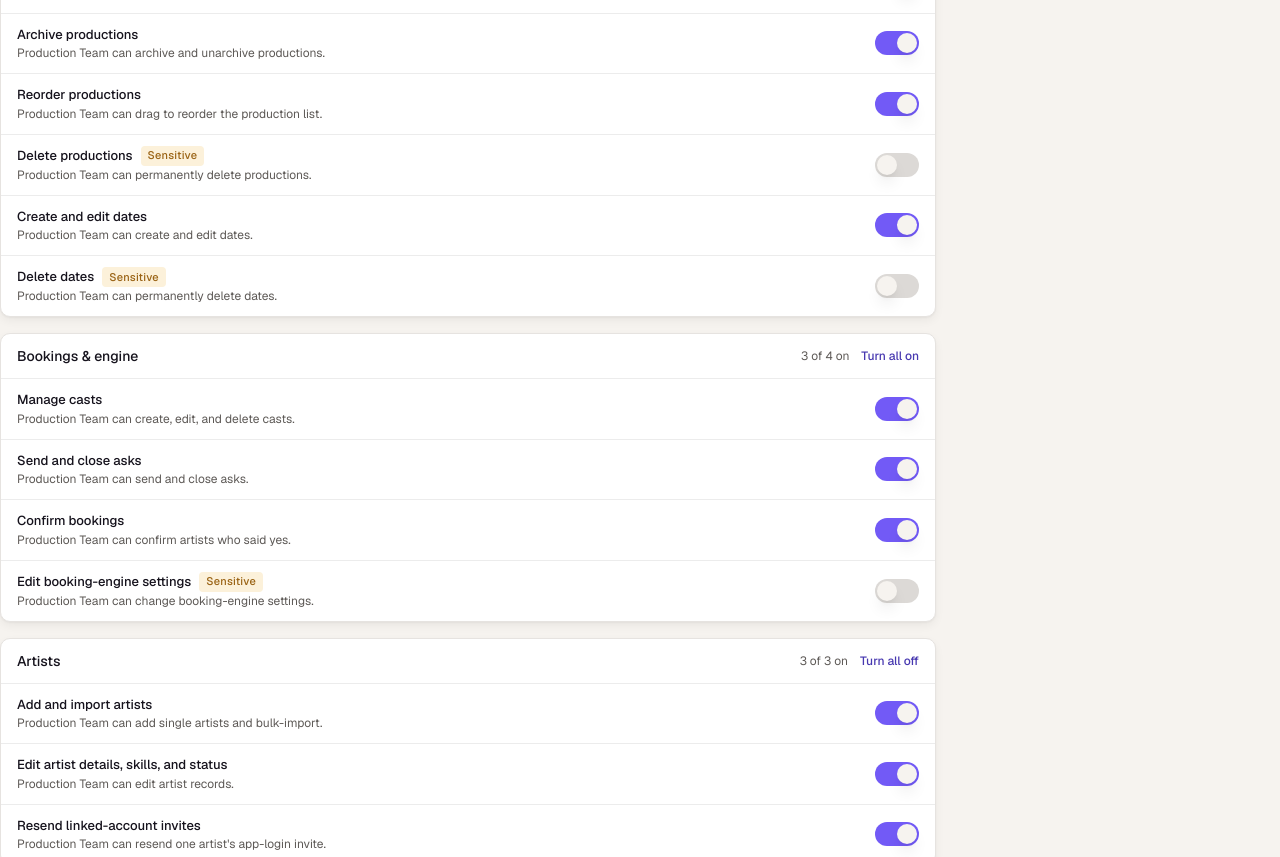
Scenario: RolesRightsTab › stages a toggle then applies it as a batched write
The width and height of the screenshot is (1280, 857).
(page scrolled)
Click the switch named "Manage casts" at (897, 409), box [875,397,919,421]
(page scrolled)
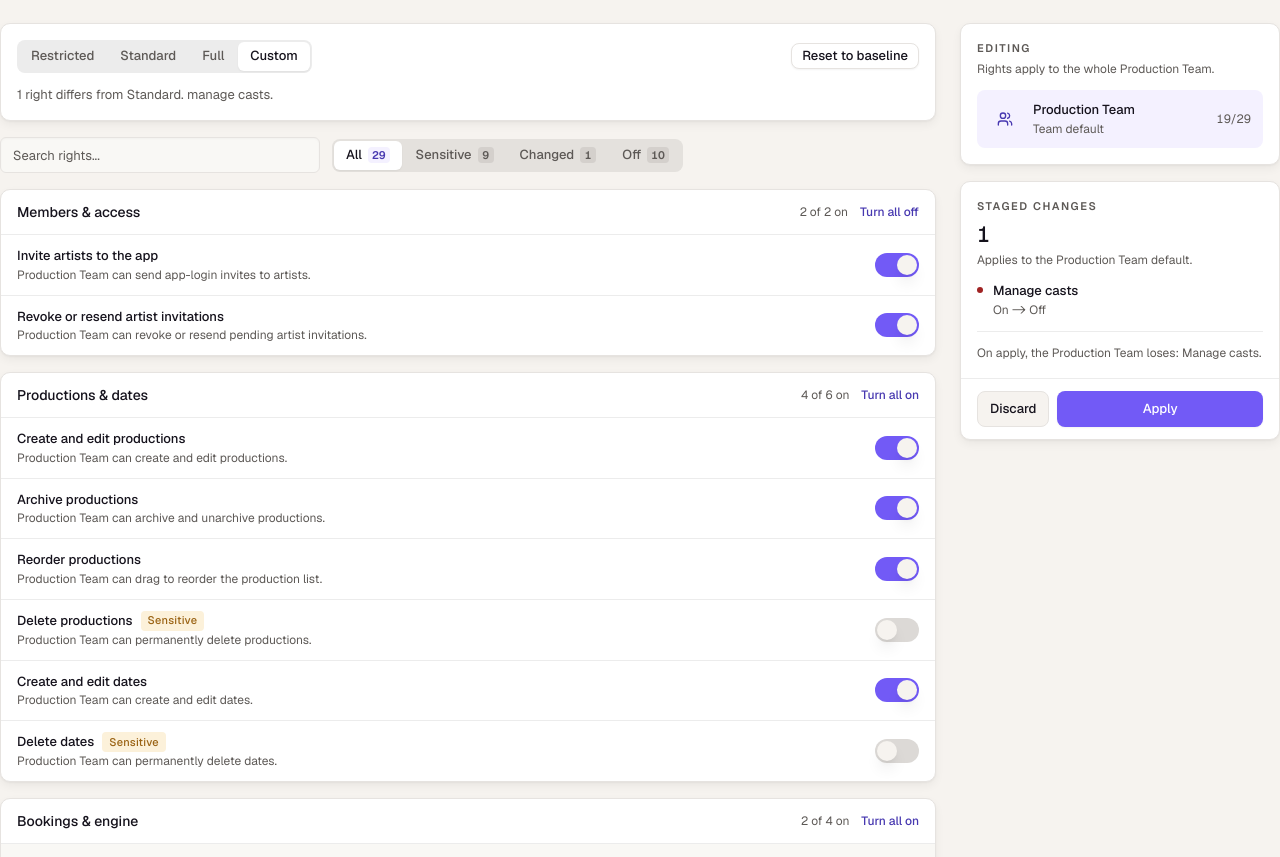
Result: the button "Apply" is enabled
Result: the text "1 right differs from Standard. manage casts." is shown at [17,86,273,102]
Click the button "Apply" at (1160, 408), box [1058,390,1263,426]
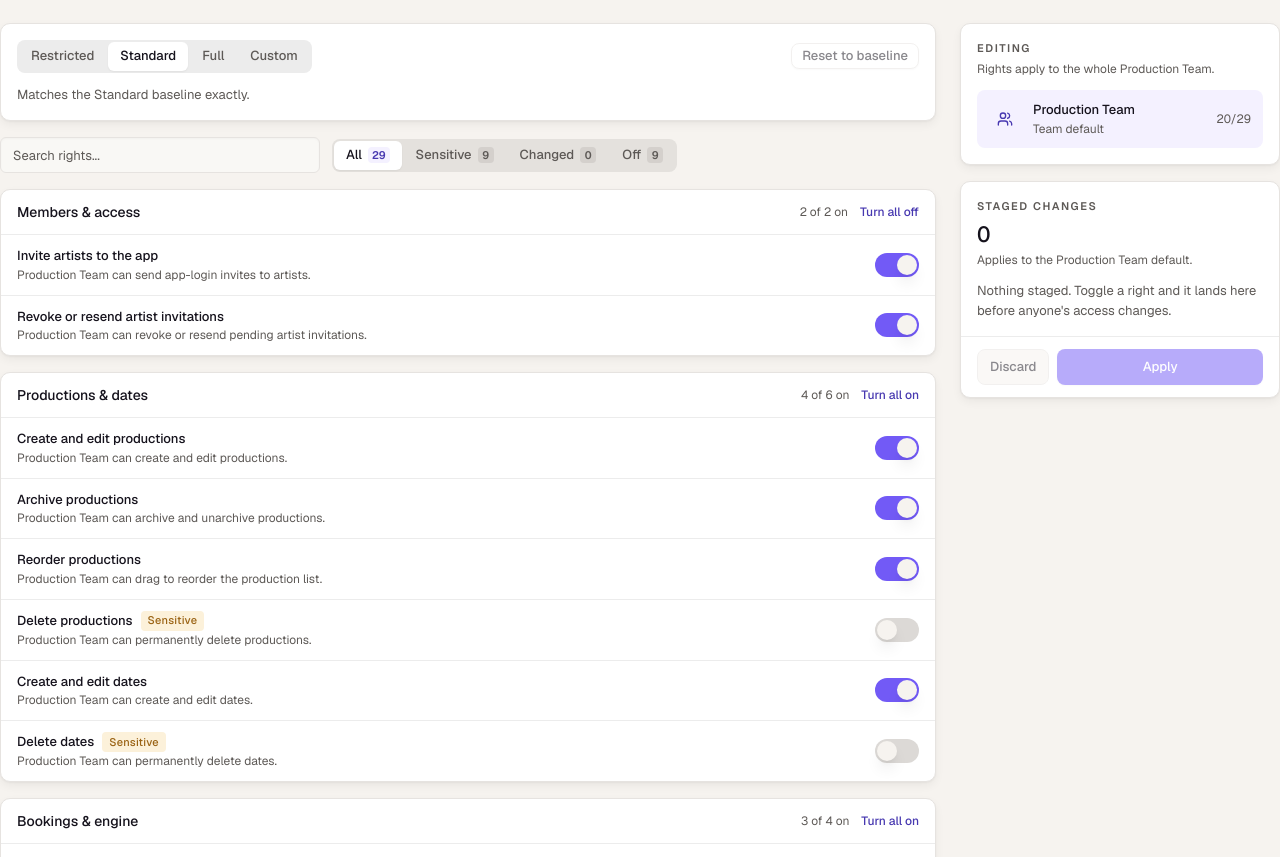
Result: the text "Nothing staged" is shown at [977,282,1256,318]
Result: the button "Apply" is disabled at [1058,349,1263,385]
